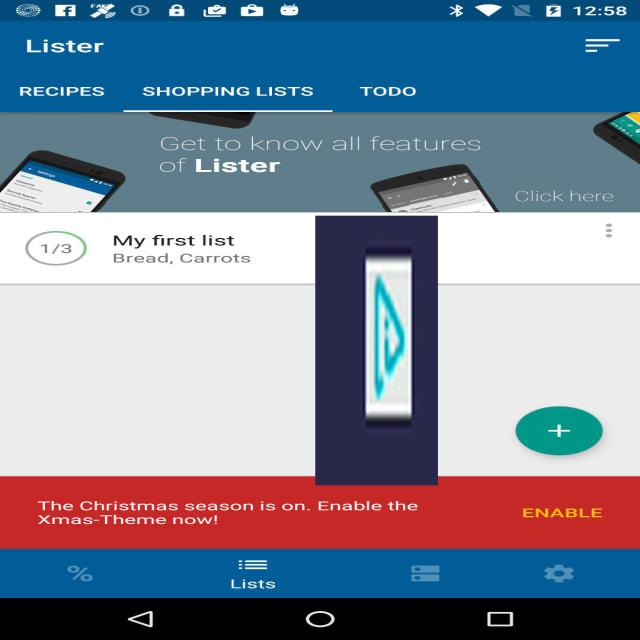sneaking: (315, 216, 438, 485)
